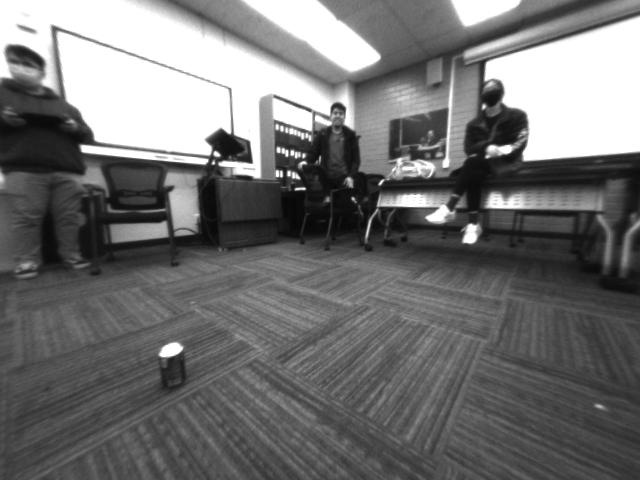can: (152, 327, 189, 398)
